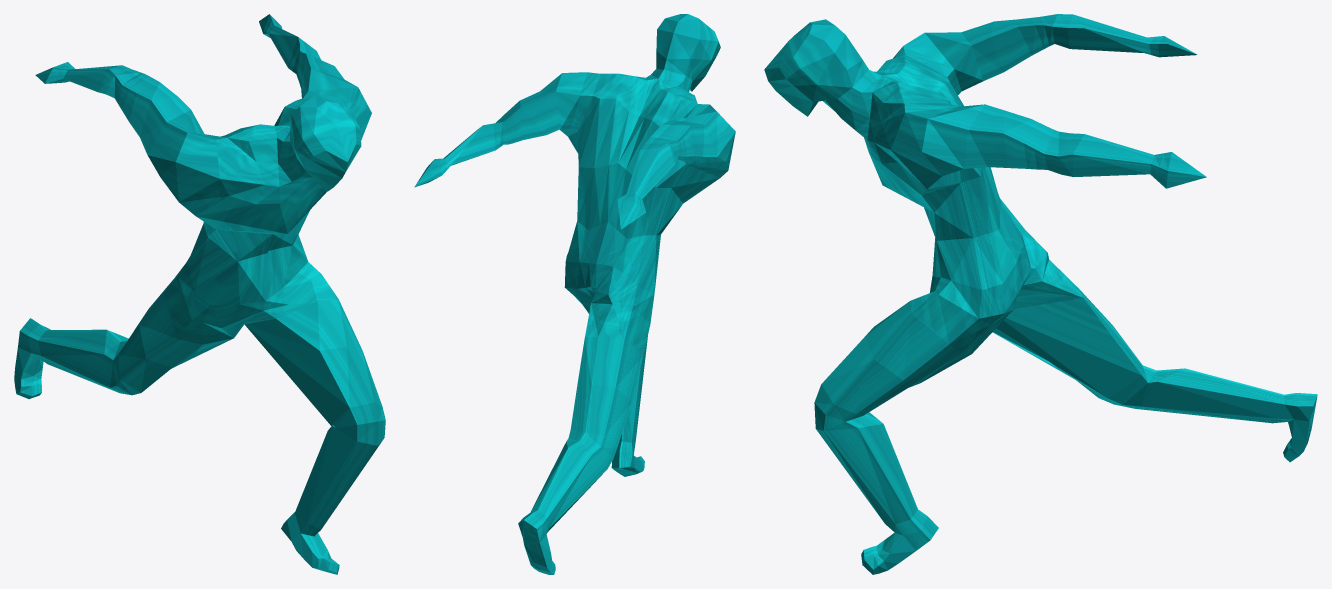
The model's file is PlayerRun.obj.
3 renders of one model, left to right at view 1: azimuth 30°, elevation 25°; view 2: azimuth 150°, elevation 25°; view 3: azimuth 270°, elevation 25°, orthographic. The views are drawn at different scales.
Parts seen in each view (by area): view 1: Cube; view 2: Cube; view 3: Cube.
Boxes of the visible parts, x1,y1,x2,y2 form: Cube: (14, 14, 385, 574); Cube: (414, 14, 735, 574); Cube: (764, 14, 1317, 574).
Bounding box in the file's own units: 2.63 × 5.26 × 4.98.
